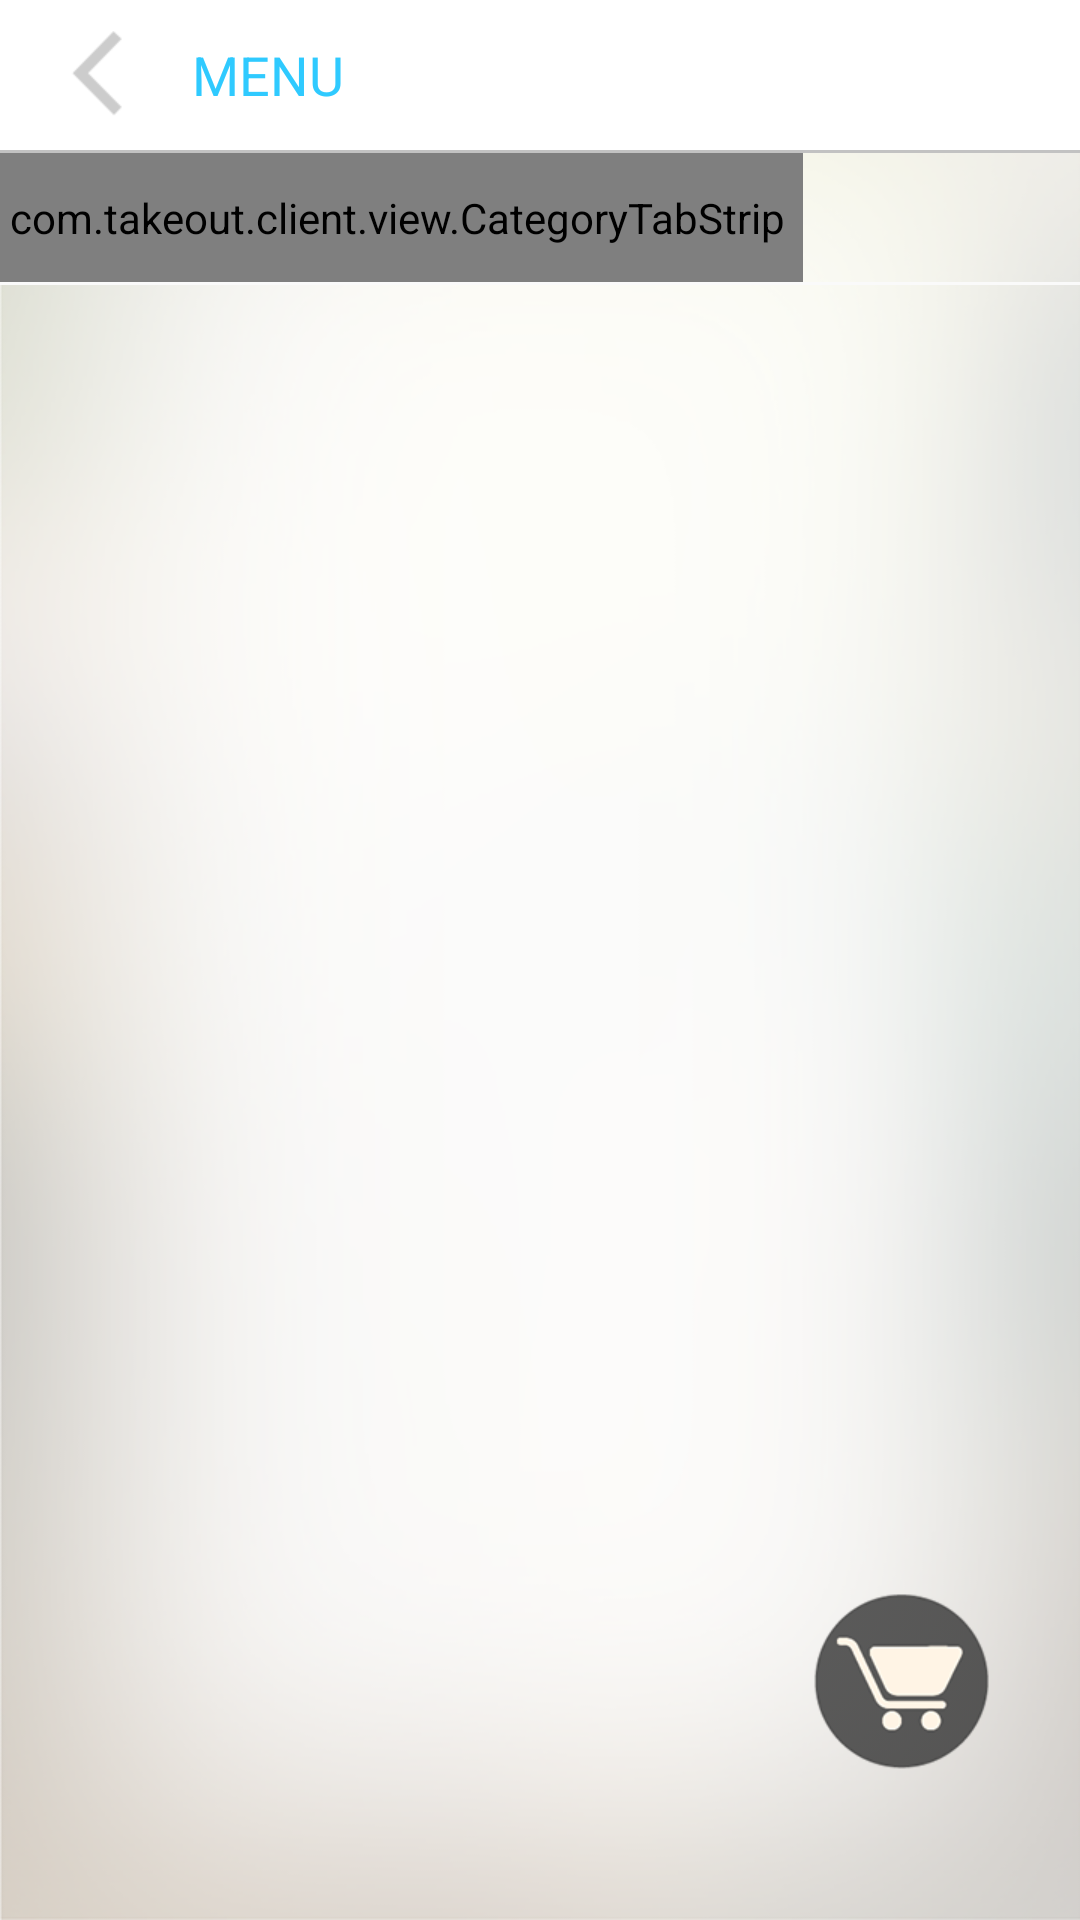

Point at icon controls on the screen. Image size 1080×1920, points as [x,y].
back: [97,73]
shopcar: [901,1681]
